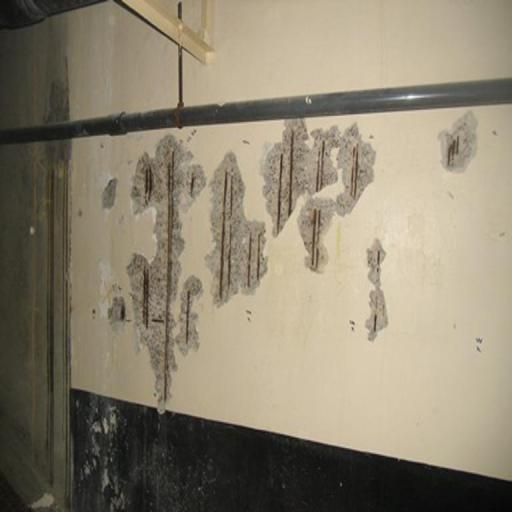spalling: (122, 135, 208, 409), (259, 119, 378, 274), (203, 154, 267, 307), (359, 238, 393, 344), (435, 114, 481, 178), (181, 274, 199, 355)
